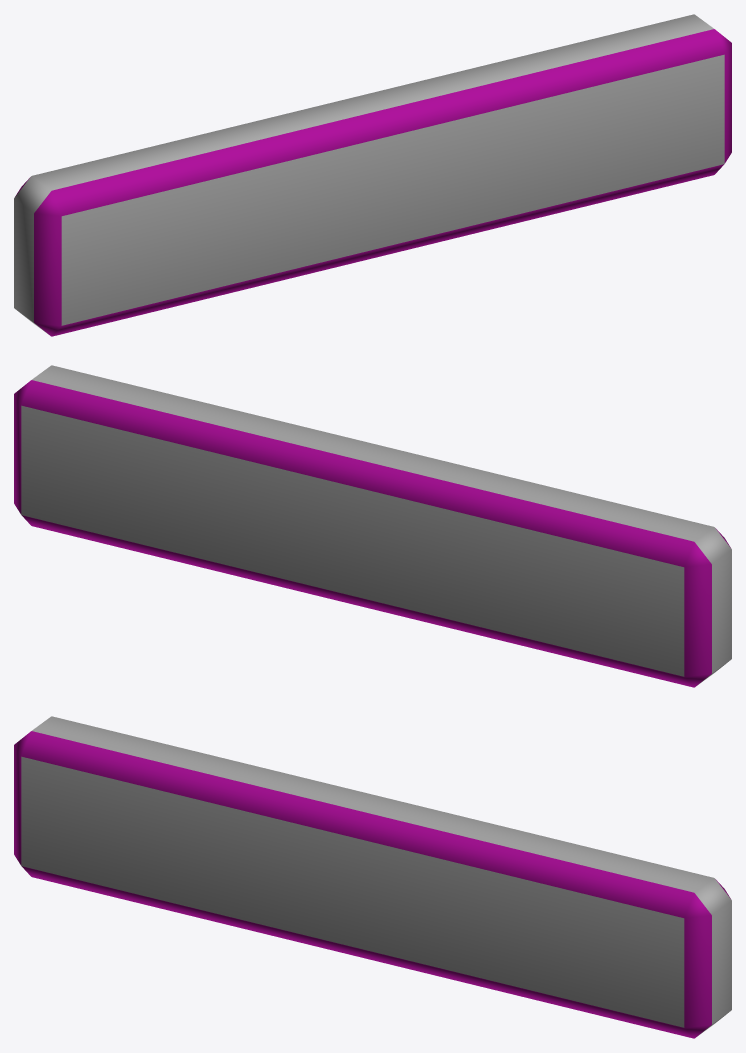
File: block_long.fbx
The picture shows the model from 3 angles, top to bottom: view 1: azimuth 30°, elevation 25°; view 2: azimuth 150°, elevation 25°; view 3: azimuth 330°, elevation 25°; orthographic projection.
Visible parts, largest first — view 1: polySurface21; view 2: polySurface21; view 3: polySurface21.
Part boxes in pixels (left/top/right/bottom): polySurface21: left=14, top=14, right=731, bottom=336; polySurface21: left=14, top=365, right=731, bottom=687; polySurface21: left=14, top=716, right=731, bottom=1038.
Bounding box in the file's own units: 5 × 1 × 0.5.
